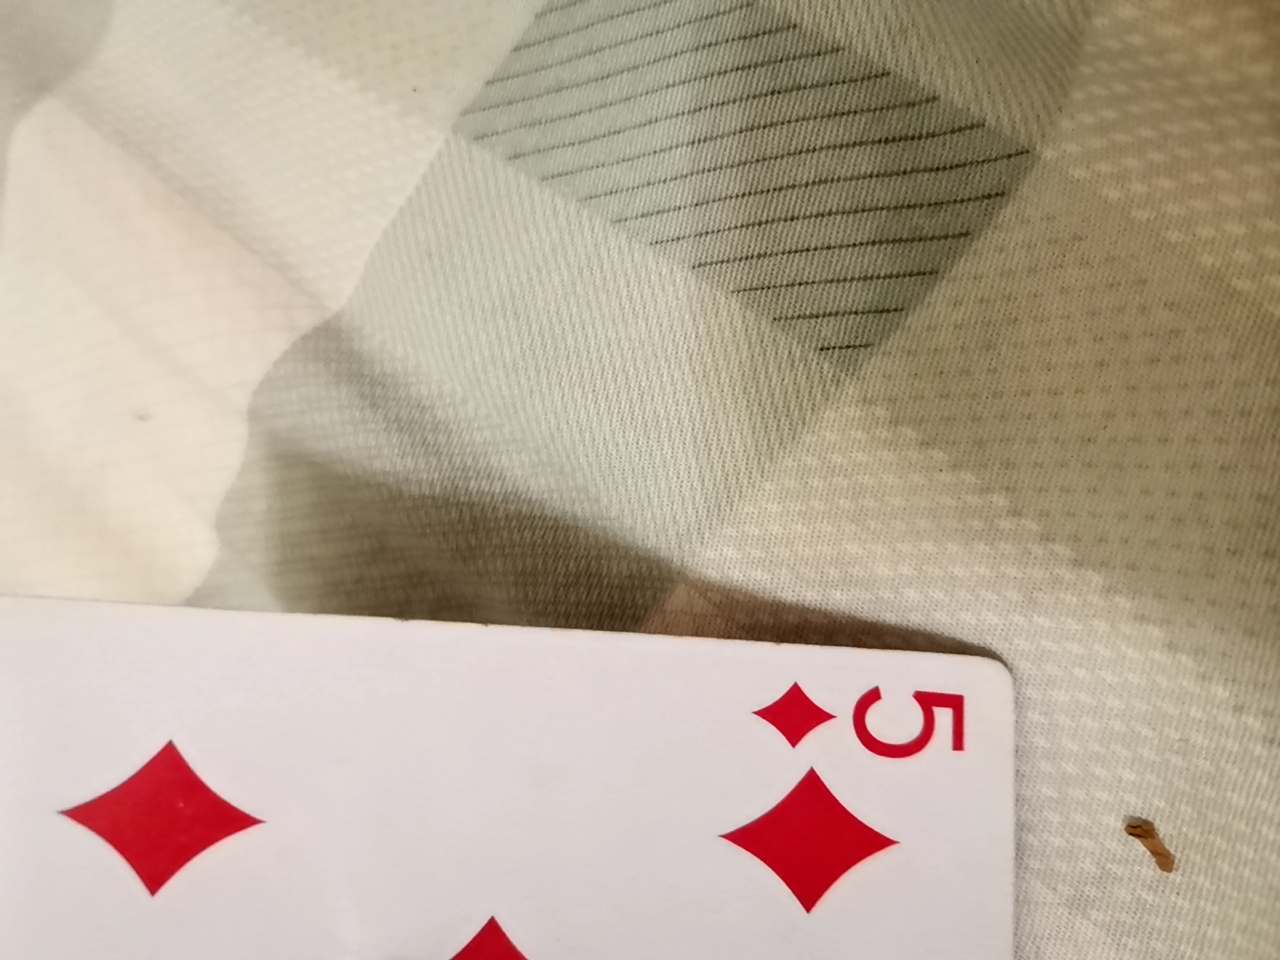fk 5: (0, 610, 1048, 960)
